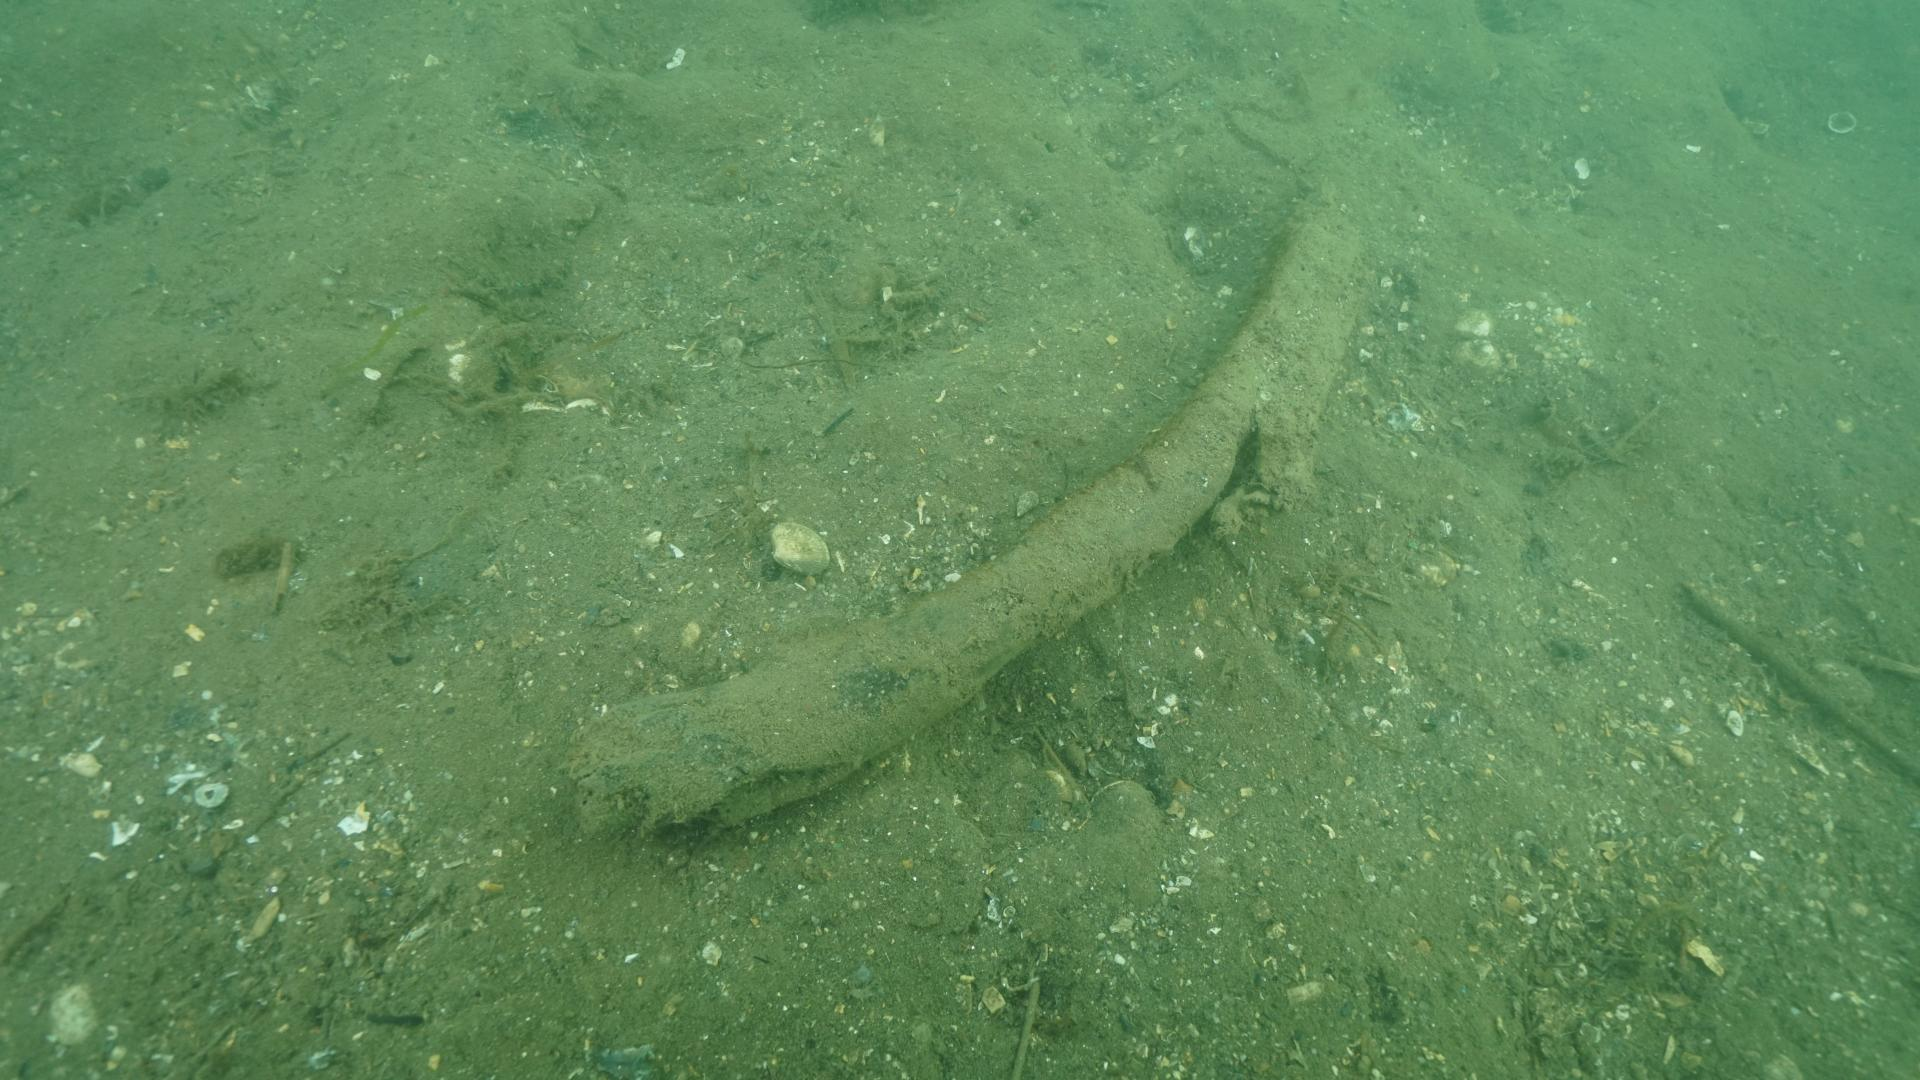wood: (568, 142, 1379, 849)
